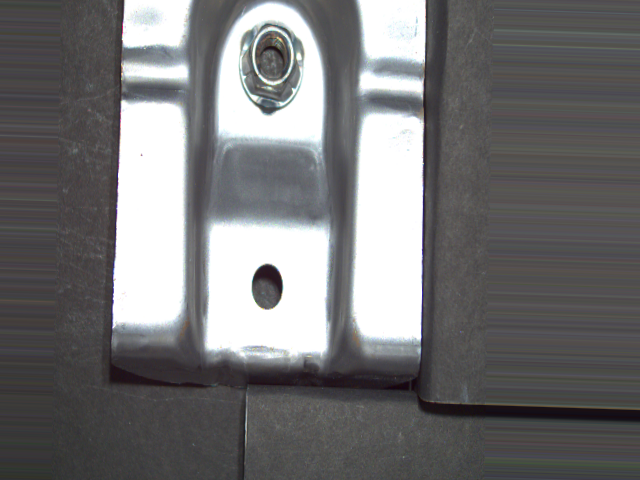good: (236, 19, 308, 114)
